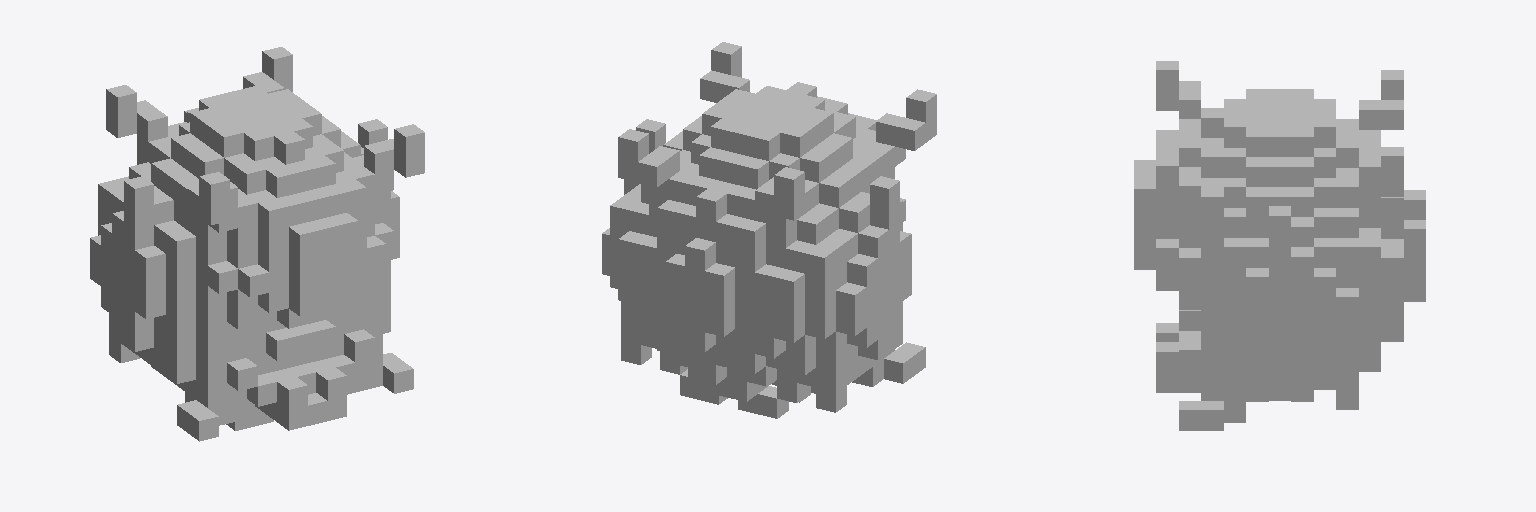
The model's file is 8-Bit CacoCATT2.obj.
3 views of the same model, side by side, from view 1: azimuth 30°, elevation 25°; view 2: azimuth 150°, elevation 25°; view 3: azimuth 270°, elevation 25° (orthographic).
Bounding box in the file's own units: 13 × 14 × 13.